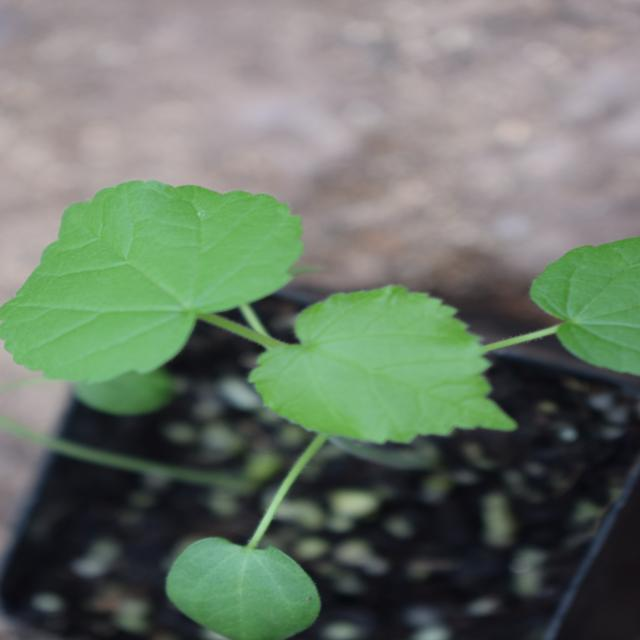abutilon theophrasti: (157, 11, 482, 629)
